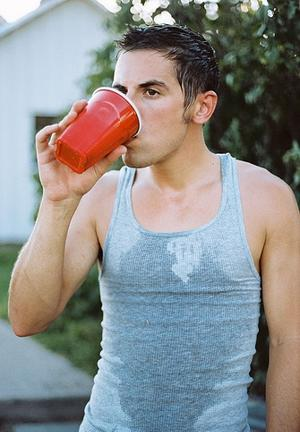person: (9, 26, 300, 432)
